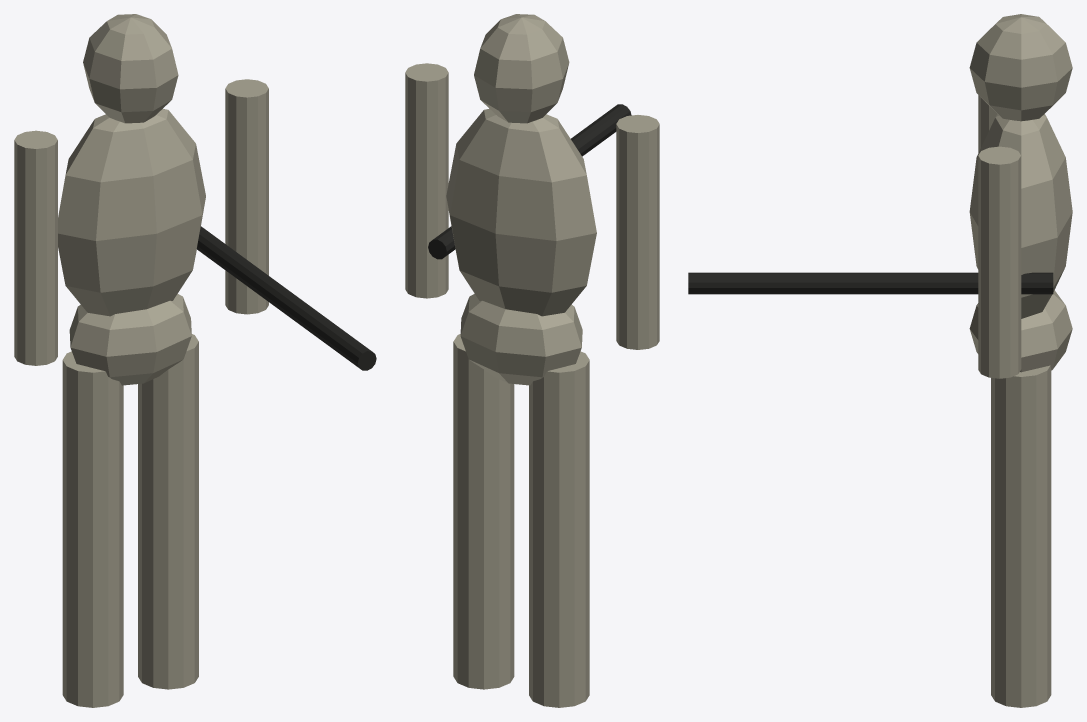
The model's file is ddr_rifle.glb.
3 views of the same model, side by side, from view 1: azimuth 30°, elevation 25°; view 2: azimuth 150°, elevation 25°; view 3: azimuth 270°, elevation 25° (orthographic).
Visible parts, largest first — view 1: Torso, Leg_L, Leg_R, Arm_L, Arm_R, Head, Pelvis, Rifle; view 2: Torso, Leg_L, Leg_R, Arm_L, Arm_R, Head, Pelvis, Rifle; view 3: Leg_R, Arm_R, Torso, Head, Rifle, Pelvis.
Part boxes in pixels (bbox=[...]): Torso: bbox=[58, 109, 205, 316]; Leg_L: bbox=[62, 351, 123, 707]; Leg_R: bbox=[138, 334, 198, 689]; Arm_L: bbox=[14, 130, 57, 365]; Arm_R: bbox=[225, 79, 268, 314]; Head: bbox=[83, 14, 178, 123]; Pelvis: bbox=[69, 294, 191, 385]; Rifle: bbox=[197, 226, 376, 370]; Torso: bbox=[446, 108, 596, 316]; Leg_L: bbox=[529, 351, 589, 707]; Leg_R: bbox=[453, 334, 514, 689]; Arm_L: bbox=[616, 115, 659, 349]; Arm_R: bbox=[405, 63, 448, 298]; Head: bbox=[474, 14, 569, 123]; Pelvis: bbox=[460, 293, 582, 385]; Rifle: bbox=[428, 104, 631, 259]; Leg_R: bbox=[991, 365, 1051, 707]; Arm_R: bbox=[978, 146, 1021, 378]; Torso: bbox=[969, 114, 1072, 318]; Head: bbox=[969, 14, 1072, 121]; Rifle: bbox=[688, 272, 1053, 294]; Pelvis: bbox=[969, 290, 1072, 372].
Size of the model in its own units: 0.66 by 1.7 by 0.895.
